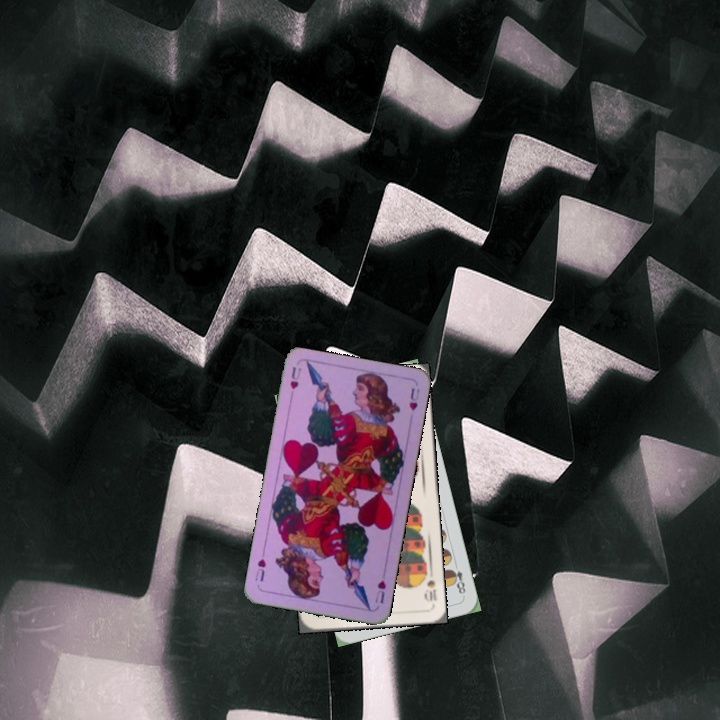E8: (446, 558, 468, 597)
HU: (286, 363, 304, 402), (371, 576, 388, 606)
S10: (419, 567, 440, 604)
